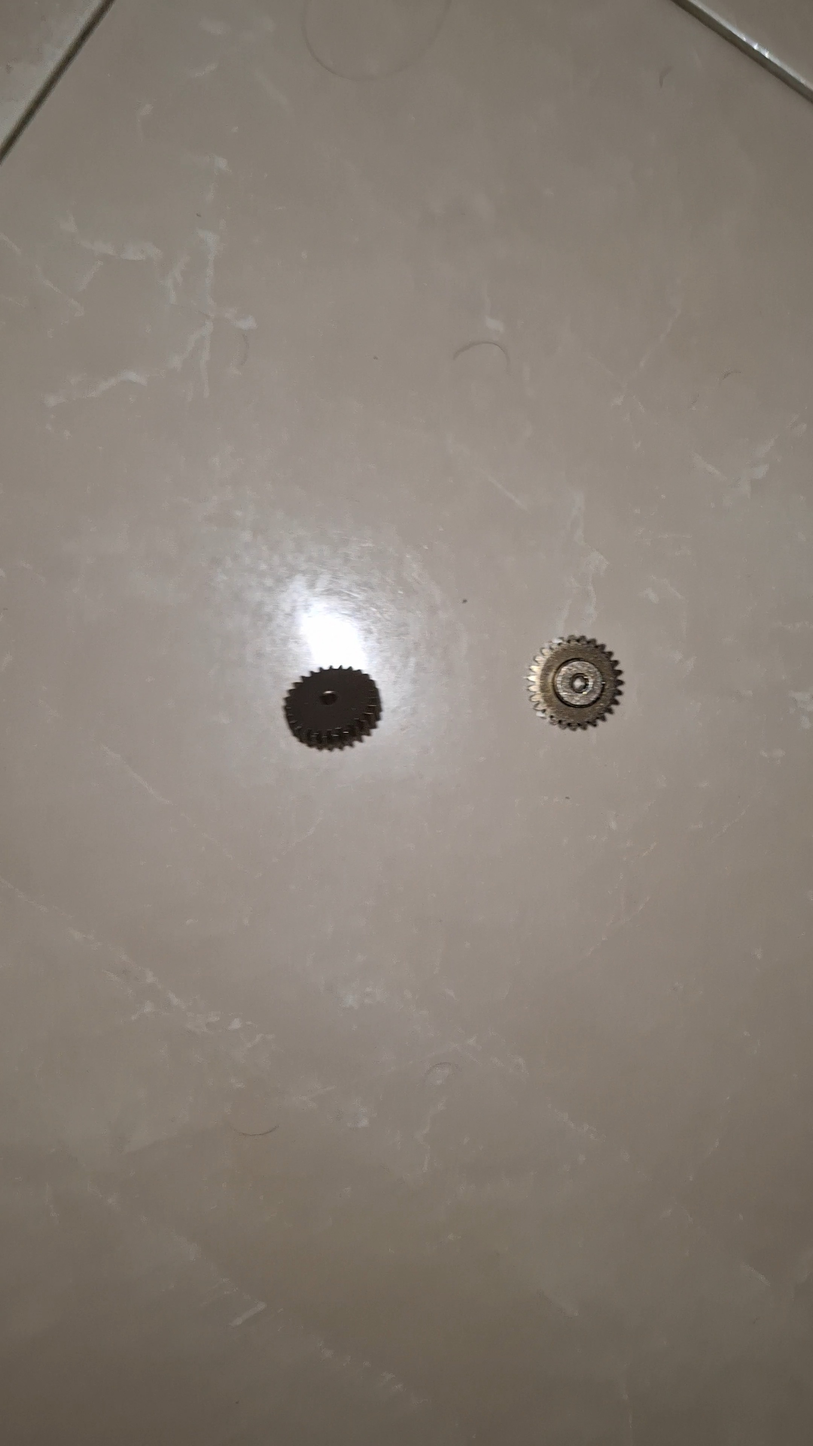spur gear: (528, 636, 622, 729), (284, 668, 381, 749)
